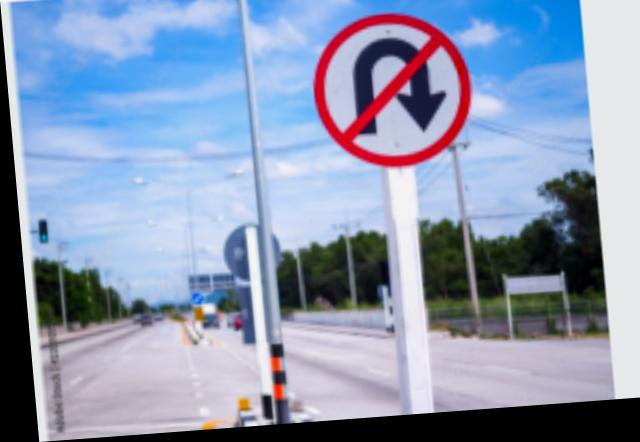not_u_turn_right: (296, 11, 481, 182)
